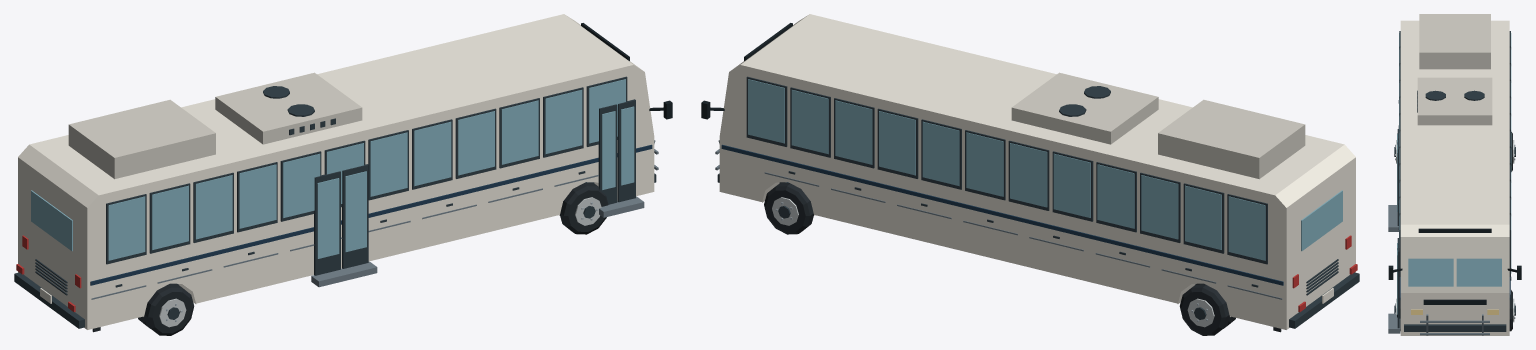
File: b15_low_floor_transit_bus.glb
3 renders of one model, left to right at view 1: azimuth 30°, elevation 25°; view 2: azimuth 150°, elevation 25°; view 3: azimuth 270°, elevation 25°, orthographic. The views are drawn at different scales.
Parts seen in each view (by area): view 1: b15_low_floor_transit_bus; view 2: b15_low_floor_transit_bus; view 3: b15_low_floor_transit_bus.
Part boxes in pixels (left/top/right/bottom): b15_low_floor_transit_bus: left=14, top=14, right=672, bottom=335; b15_low_floor_transit_bus: left=701, top=14, right=1359, bottom=335; b15_low_floor_transit_bus: left=1388, top=14, right=1521, bottom=335.
Size of the model in its own units: 12.53 by 3.62 by 3.12.
